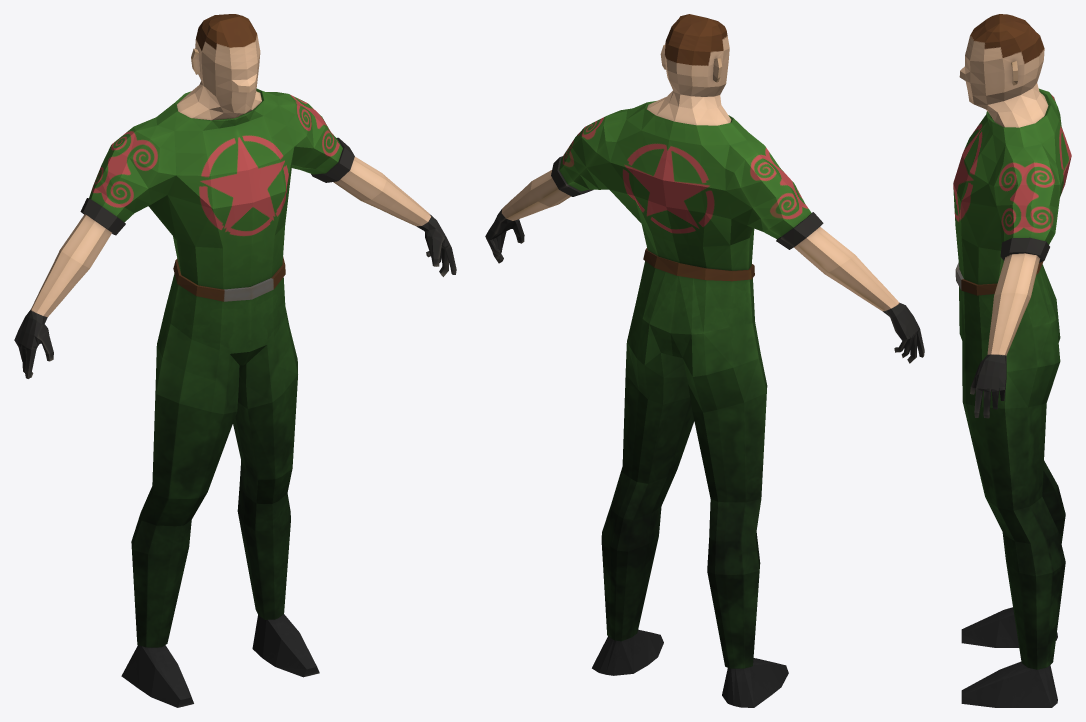
The model's file is man.glb.
3 views of the same model, side by side, from view 1: azimuth 30°, elevation 25°; view 2: azimuth 150°, elevation 25°; view 3: azimuth 270°, elevation 25° (orthographic).
Visible parts, largest first — view 1: pants, jacket, torso, belt; view 2: pants, jacket, torso, belt; view 3: pants, torso, jacket, belt.
Part boxes in pixels (x1,y1,x2,y2): pants: (131,273,297,647); jacket: (89,88,342,289); torso: (14,14,456,707); belt: (173,256,285,301); pants: (601,261,767,668); jacket: (559,101,811,270); torso: (485,14,924,707); belt: (643,248,754,281); pants: (959,264,1065,669); torso: (959,14,1057,707); jacket: (953,88,1071,284); belt: (955,261,1043,295).
Bounding box in the file's own units: 1.86 × 2.71 × 0.4486.
1 material, 1 textured.
